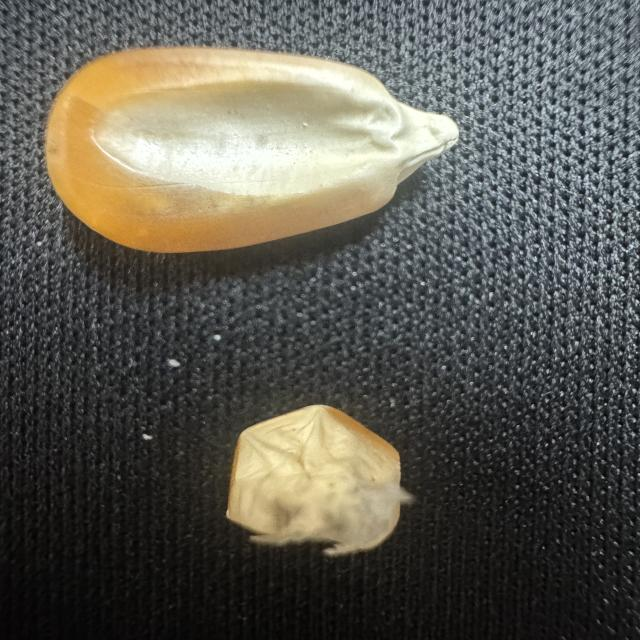Bad-Seed: (216, 400, 428, 566)
Good-Seed: (41, 35, 470, 261)
